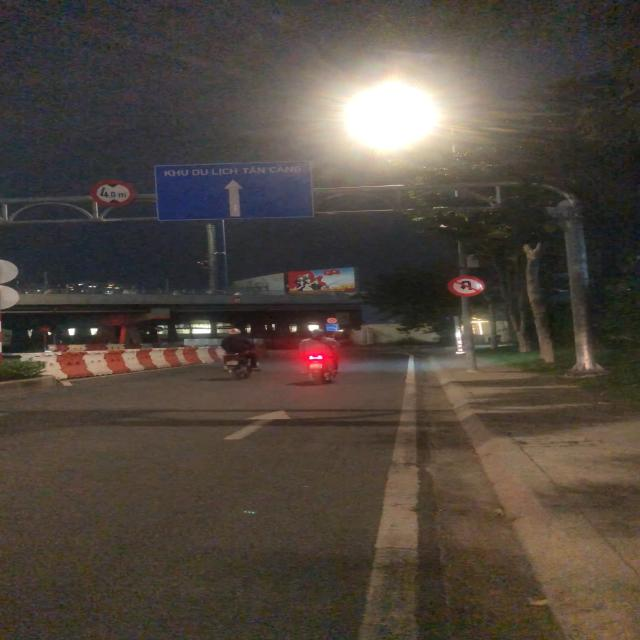Bien bao cam quay dau xe: (446, 275, 488, 298)
Bien bao han che chieu cao: (89, 178, 137, 208)
